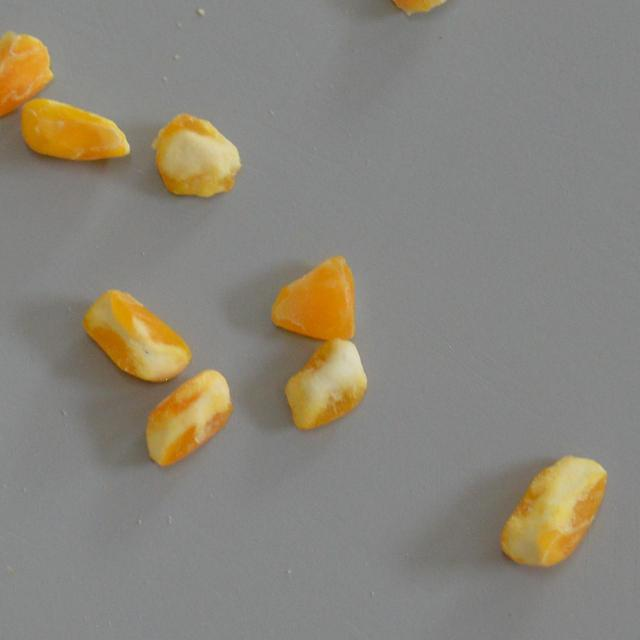pelicula: (496, 454, 609, 568), (82, 288, 192, 382), (144, 366, 233, 467), (282, 336, 366, 430), (151, 112, 241, 198), (18, 96, 131, 164), (270, 255, 356, 342), (0, 28, 57, 118), (380, 0, 479, 18)
